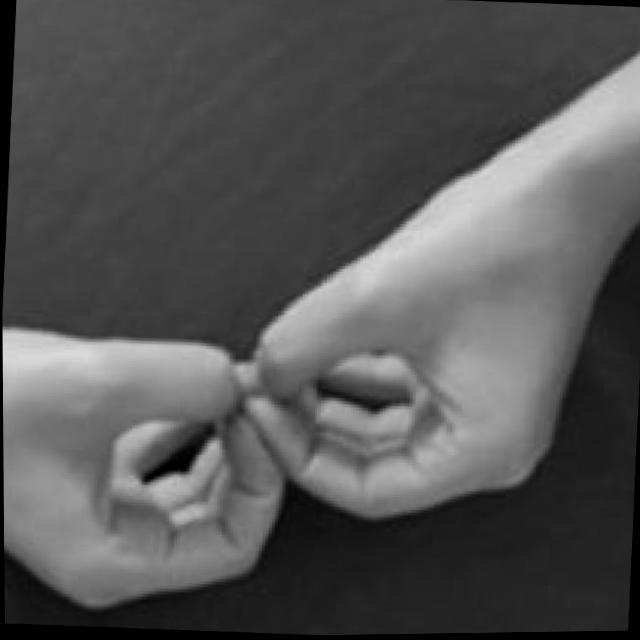B: (1, 137, 574, 635)
